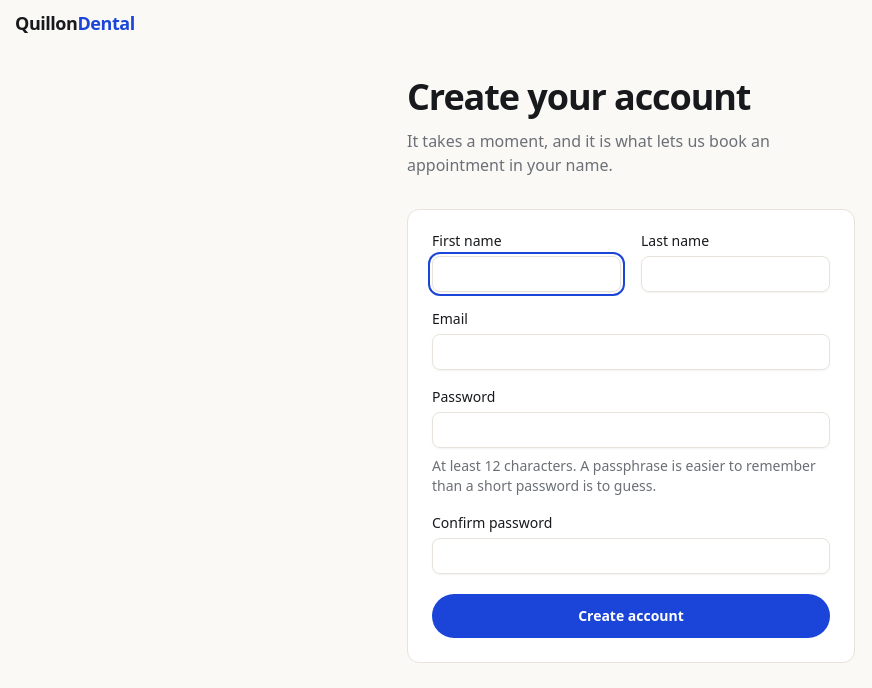
SignUp › refuses a mistyped confirmation without asking the server
In the field labelled "First name": (526, 274) x1=432 y1=256 x2=621 y2=292, type "Elena"
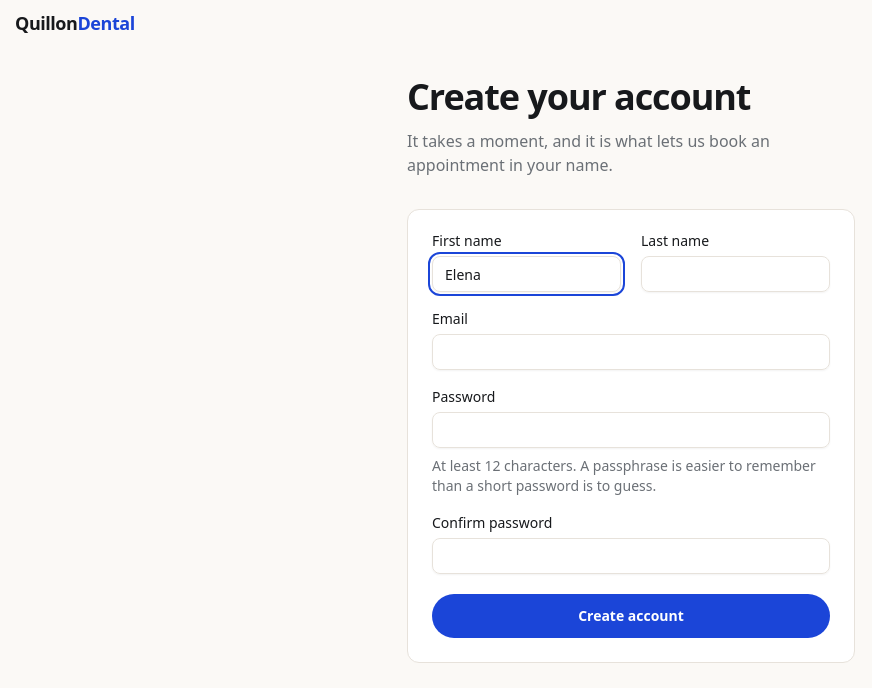
In the field labelled "Last name": (736, 274) x1=641 y1=256 x2=830 y2=292, type "Marsh"
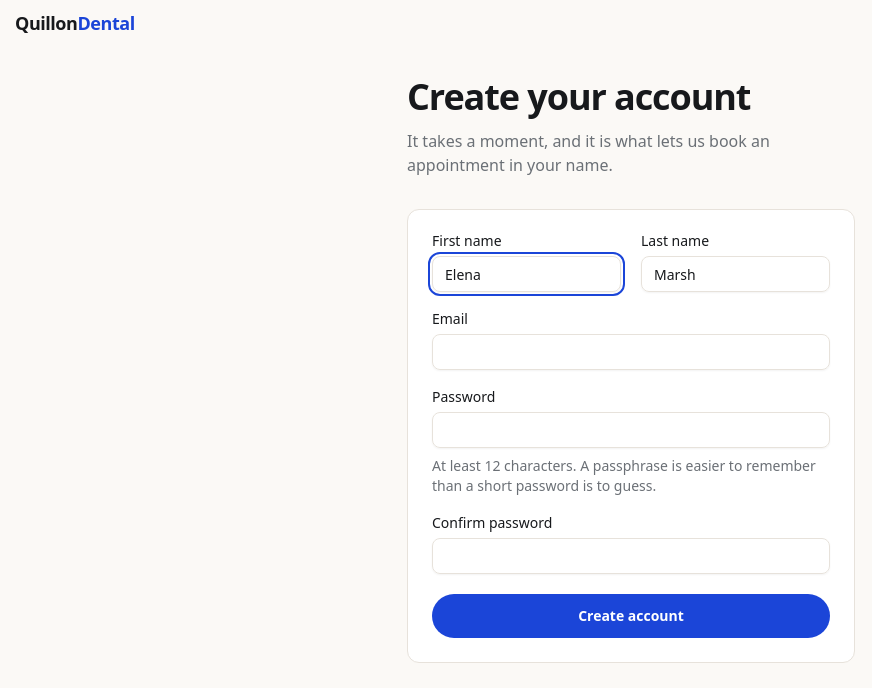
In the field labelled "Email": (631, 352) x1=432 y1=334 x2=830 y2=370, type "elena.marsh@example.com"
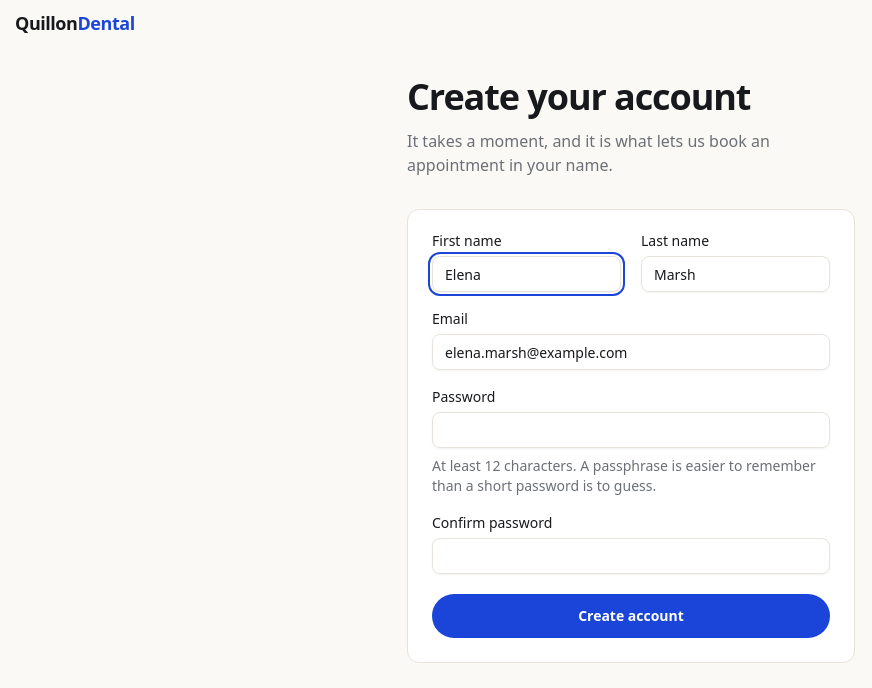
In the password field labelled "Password": (631, 430) x1=432 y1=412 x2=830 y2=448, type "correct-horse-battery"
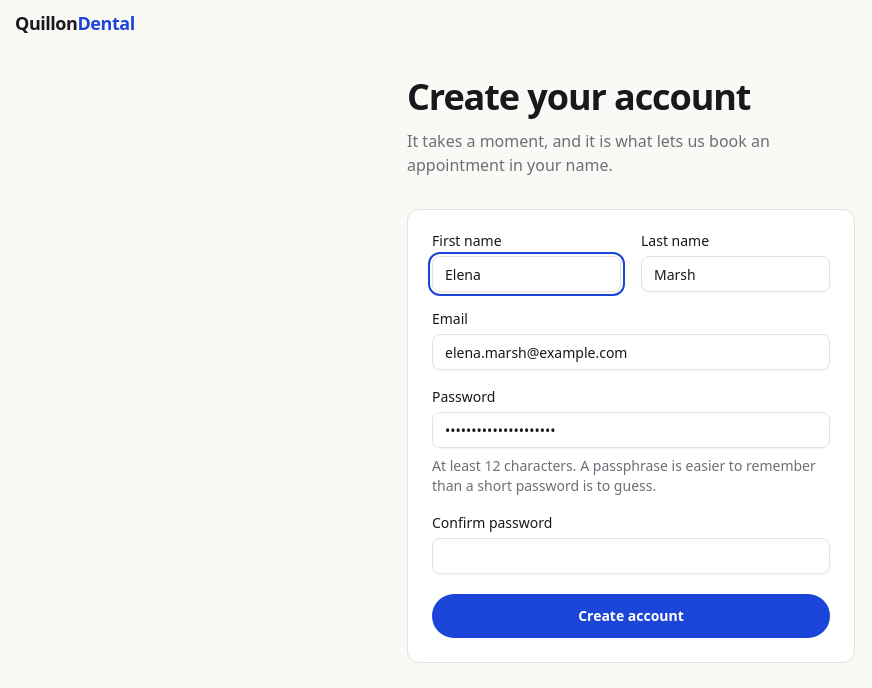
In the password field labelled "Confirm password": (631, 556) x1=432 y1=538 x2=830 y2=574, type "correct-horse-batteru"
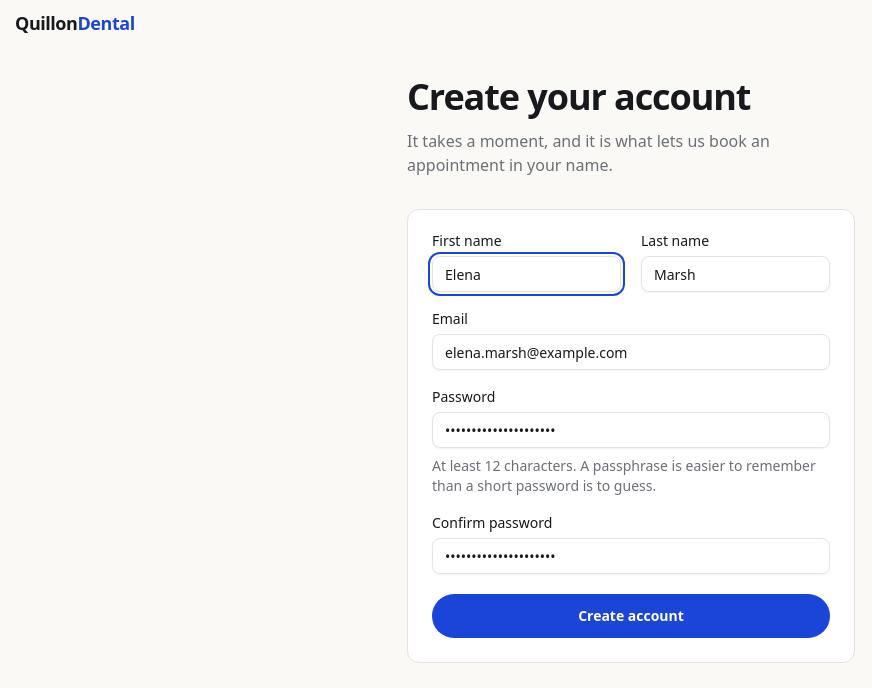
Click the button "Create account": (631, 616) x1=432 y1=594 x2=830 y2=638
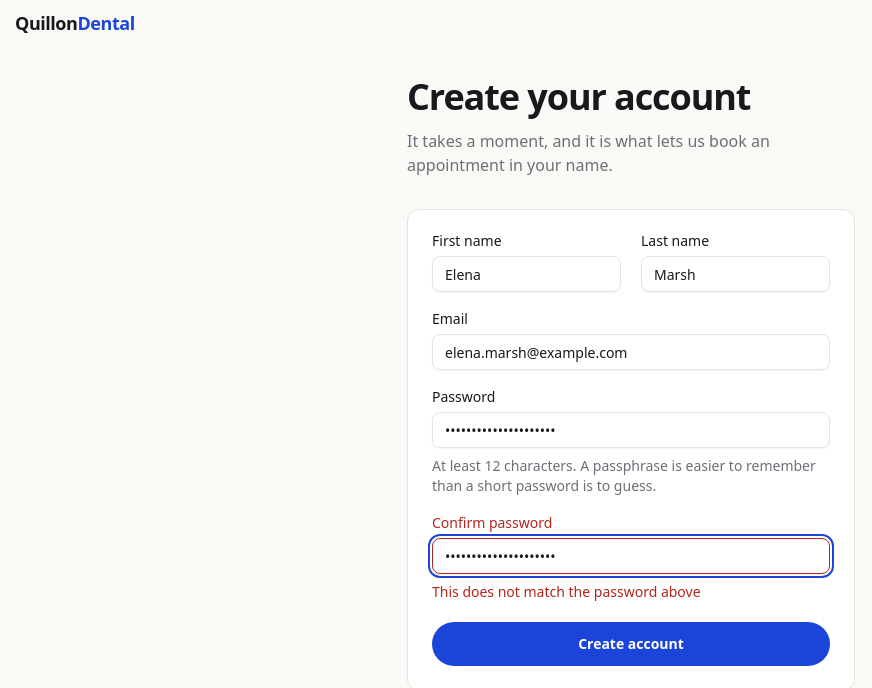
Expected: the text "This does not match the password above" is shown, x1=432 y1=582 x2=701 y2=601
